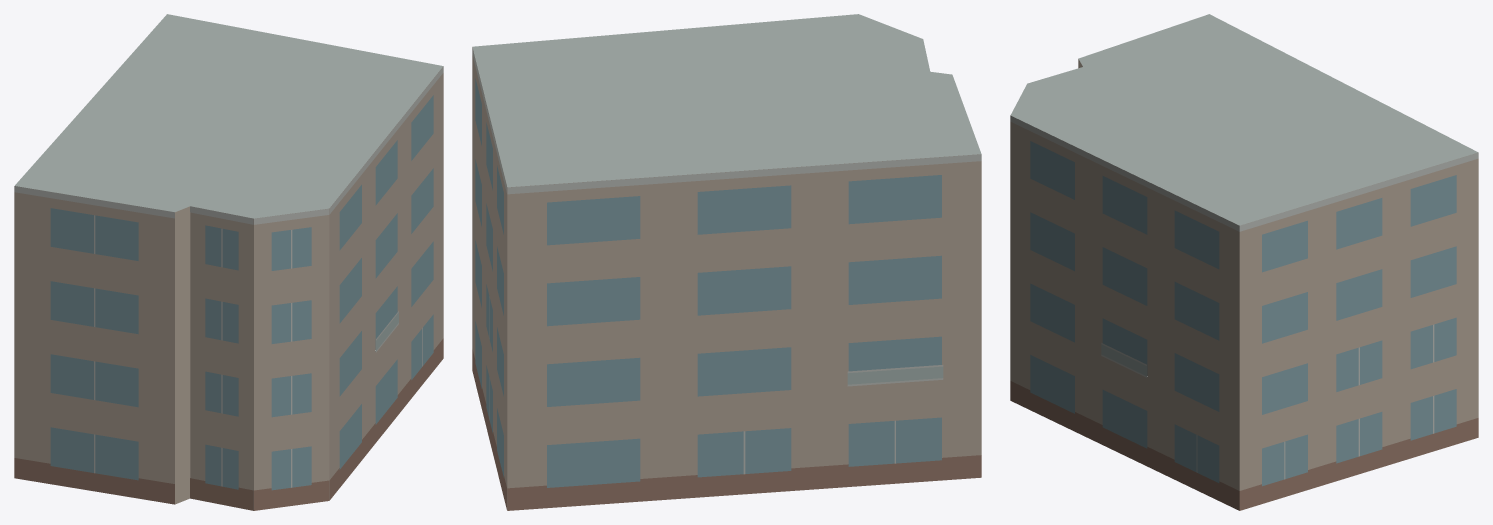
File: survey-upis-32624898.glb
3 views of the same model, side by side, from view 1: azimuth 30°, elevation 25°; view 2: azimuth 150°, elevation 25°; view 3: azimuth 270°, elevation 25° (orthographic). The views are drawn at different scales.
Parts seen in each view (by area): view 1: survey-upis-32624898.tmp; view 2: survey-upis-32624898.tmp; view 3: survey-upis-32624898.tmp.
Boxes of the visible parts, box(x1,y1,x2,y2) form: survey-upis-32624898.tmp: box(14, 14, 443, 510); survey-upis-32624898.tmp: box(472, 14, 981, 510); survey-upis-32624898.tmp: box(1010, 14, 1478, 510).
Bounding box in the file's own units: 18 × 11.3 × 16.82.
